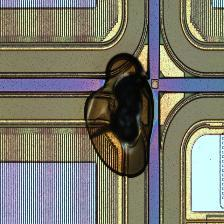PARTICLE: (82, 52, 158, 181)
